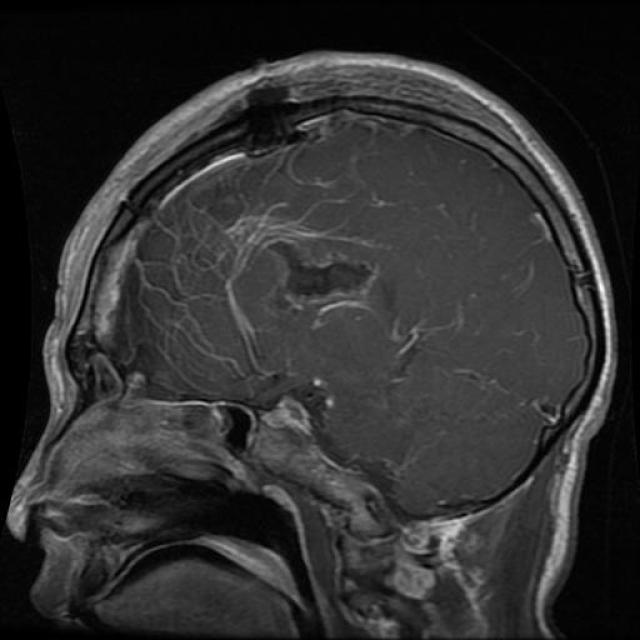glioma: (262, 238, 388, 320)
